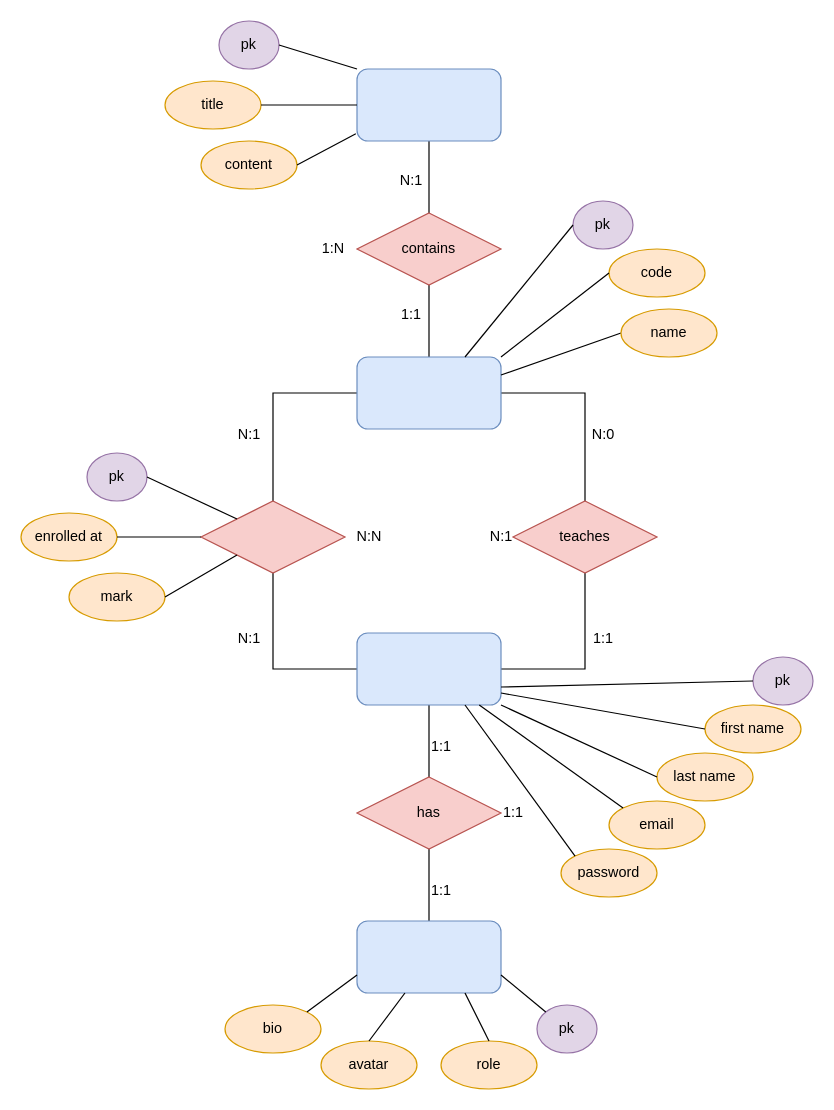
Some shapes in this 834 by 1110 pixel diagram are drawn without their labels. The shapes that lost their labels are listed below. From the top down, each one's box as (x1, y1, x2, y2) in pixels, then its label:
(356, 68, 501, 141): Lesson
(356, 356, 501, 429): Subject
(200, 500, 345, 573): enrolls
(356, 632, 501, 705): User
(356, 920, 501, 993): Profile
